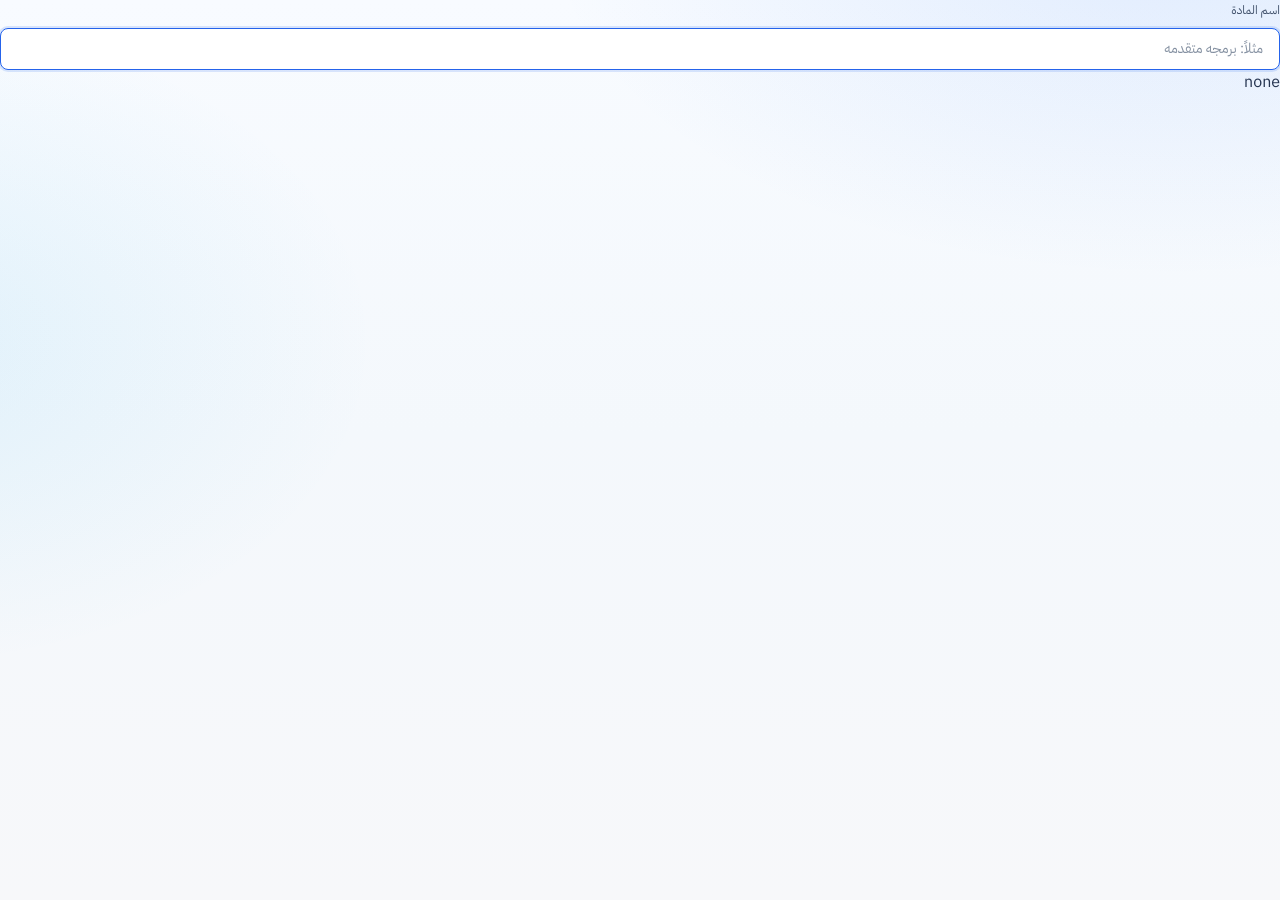
instant subject name input › auto-links non-literal full names without changing typed text or focus
Type "برمجه متقدمه" into the dropdown labelled "اسم المادة" at (640, 49), box [0,28,1279,70]
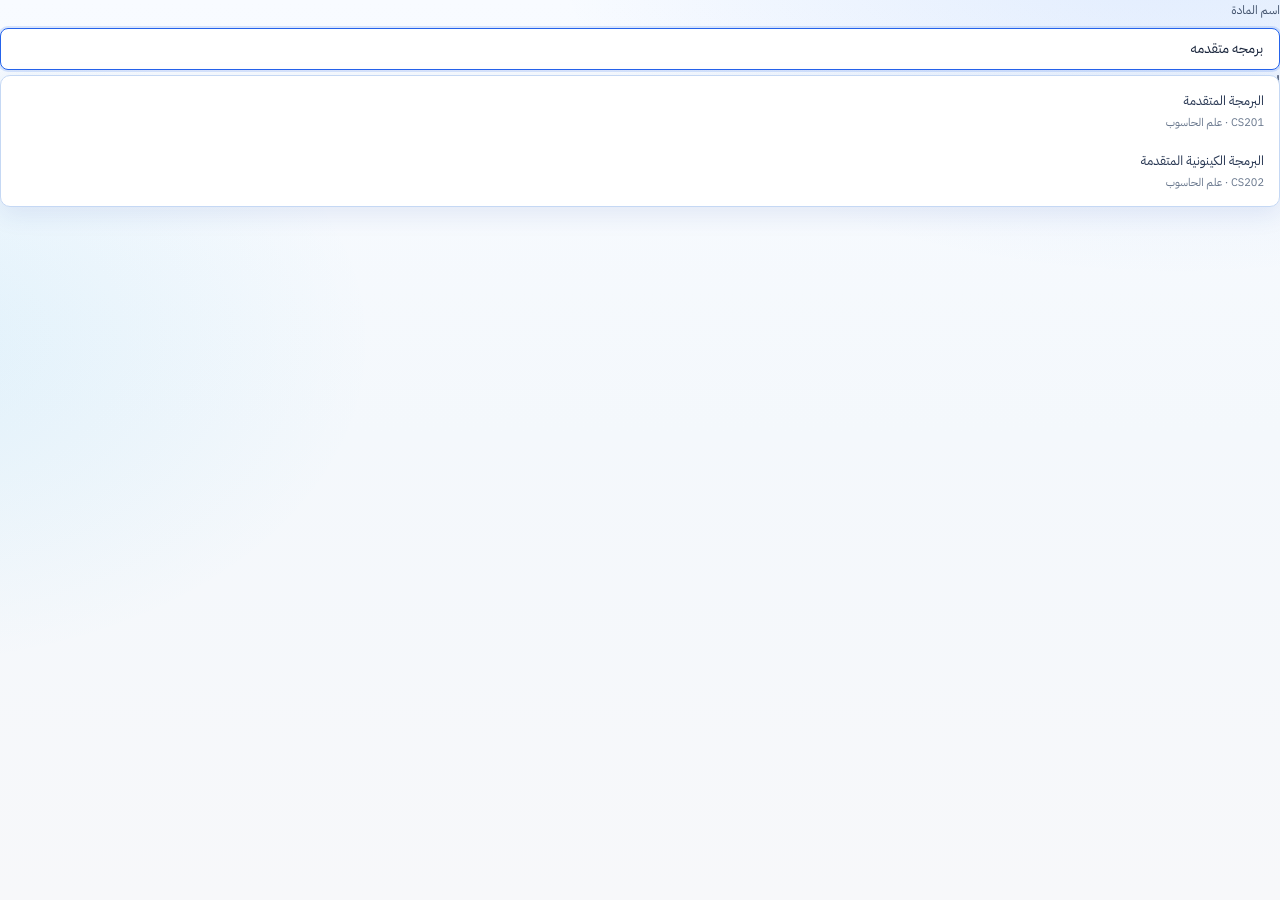
Expected: the text named "المطابقة" reads "advanced", [1211,70,1279,94]
Replace the text in the dropdown labelled "اسم المادة" with "مادة خاصة جديدة" at (640, 49), box [0,28,1279,70]
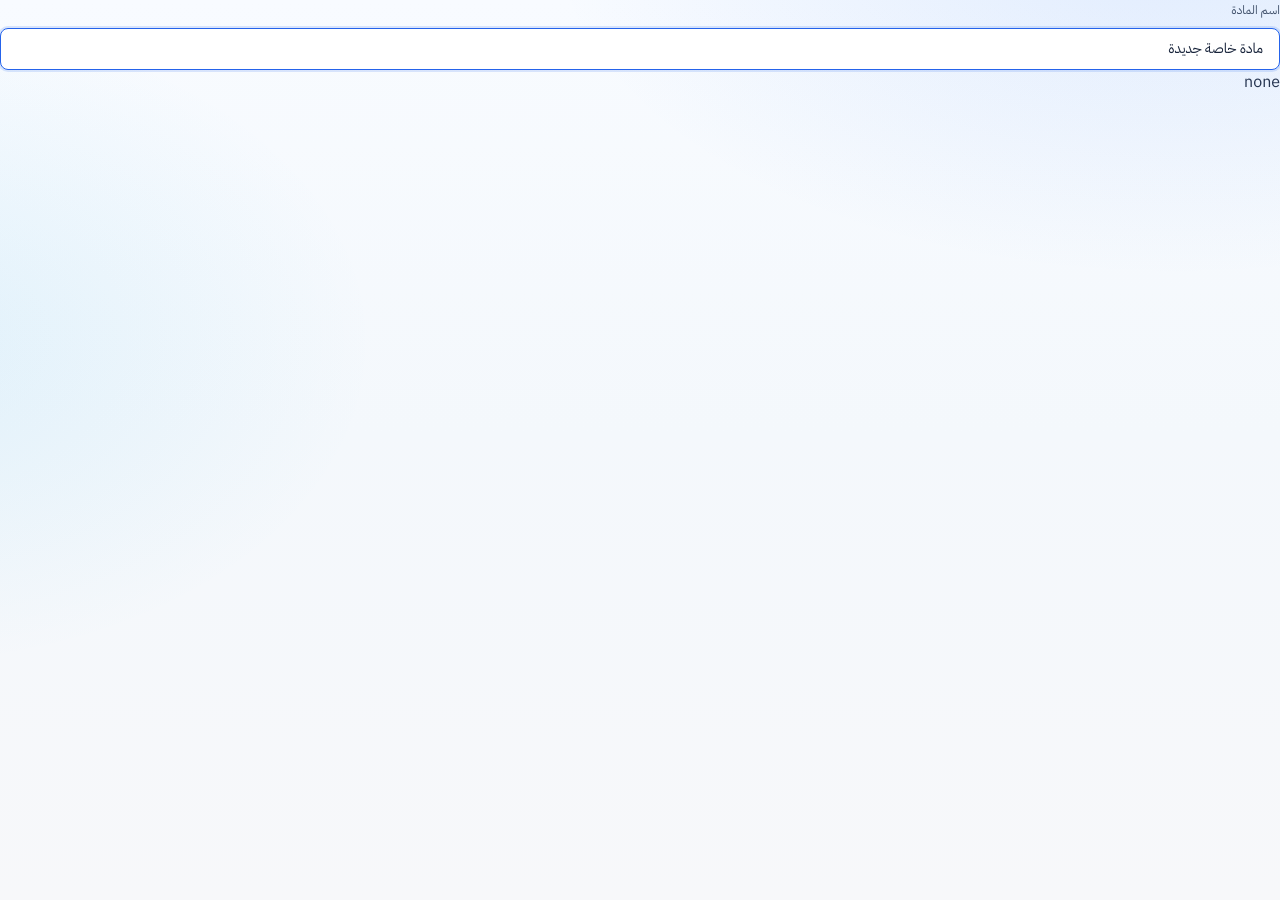
Expected: the text named "المطابقة" reads "none", [1244,70,1279,94]
